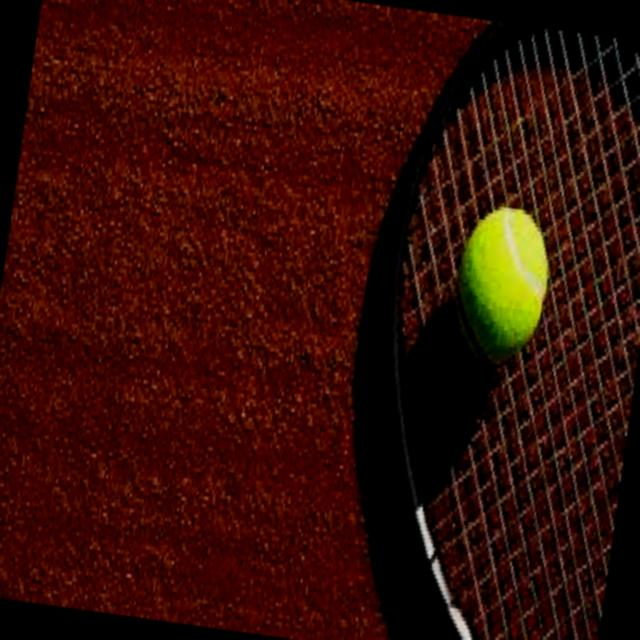tennis-ball: (448, 202, 556, 370)
